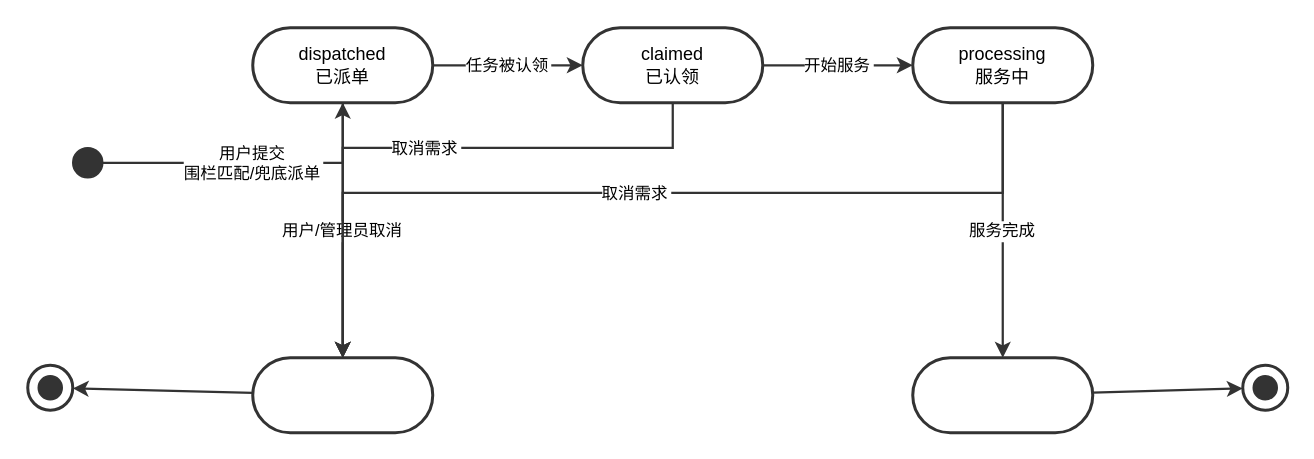
The diagram is 1314 pixels wide and 459 high, and some of its shapes have lost their labels. The box of each missing label's shape, as (x1, y1, x2, y2) in pixels:
cancelled 已取消: (250, 356, 434, 434)
completed 已完成: (910, 356, 1094, 434)
